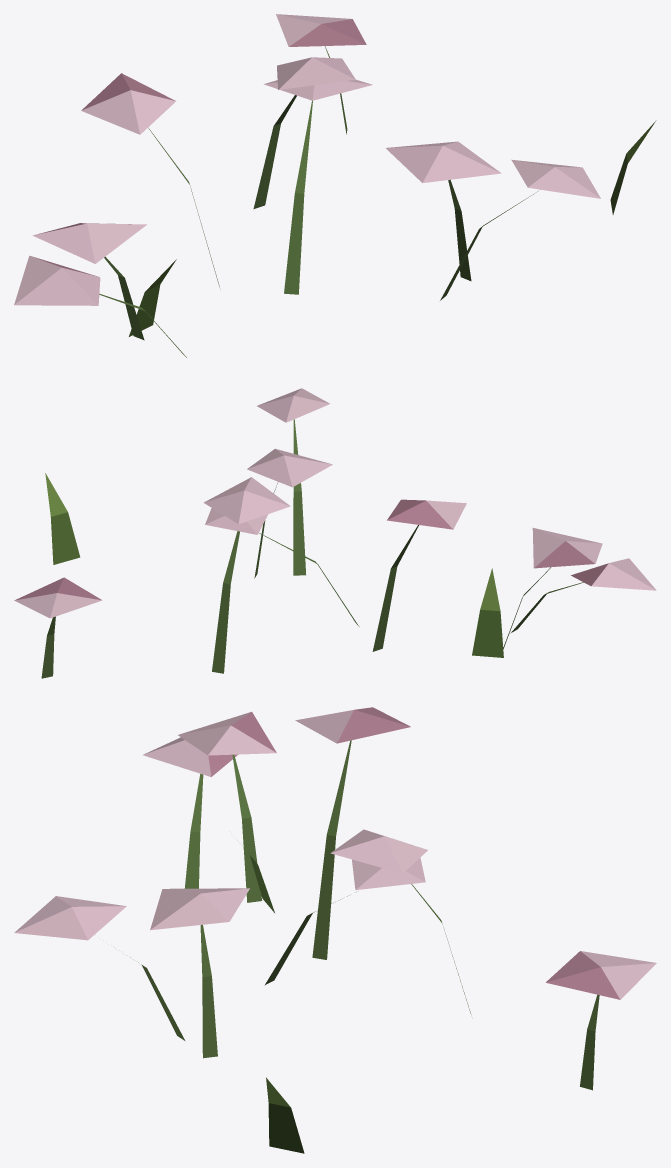
File: flower-clover.glb
3 views of the same model, one above another, from view 1: azimuth 30°, elevation 25°; view 2: azimuth 150°, elevation 25°; view 3: azimuth 270°, elevation 25° (orthographic). The views are drawn at different scales.
Parts seen in each view (by area): view 1: Flower_Clover; view 2: Flower_Clover; view 3: Flower_Clover.
Boxes of the visible parts, x1,y1,x2,y2 form: Flower_Clover: (14, 14, 656, 357); Flower_Clover: (14, 388, 656, 678); Flower_Clover: (14, 707, 656, 1153).
Size of the model in its own units: 0.62 by 0.1785 by 0.4902.
1 material, 1 textured.
